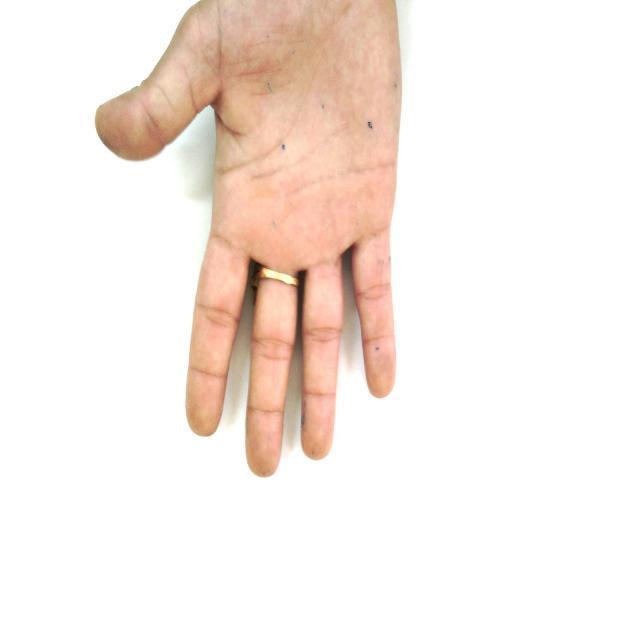hand: (94, 0, 403, 477)
